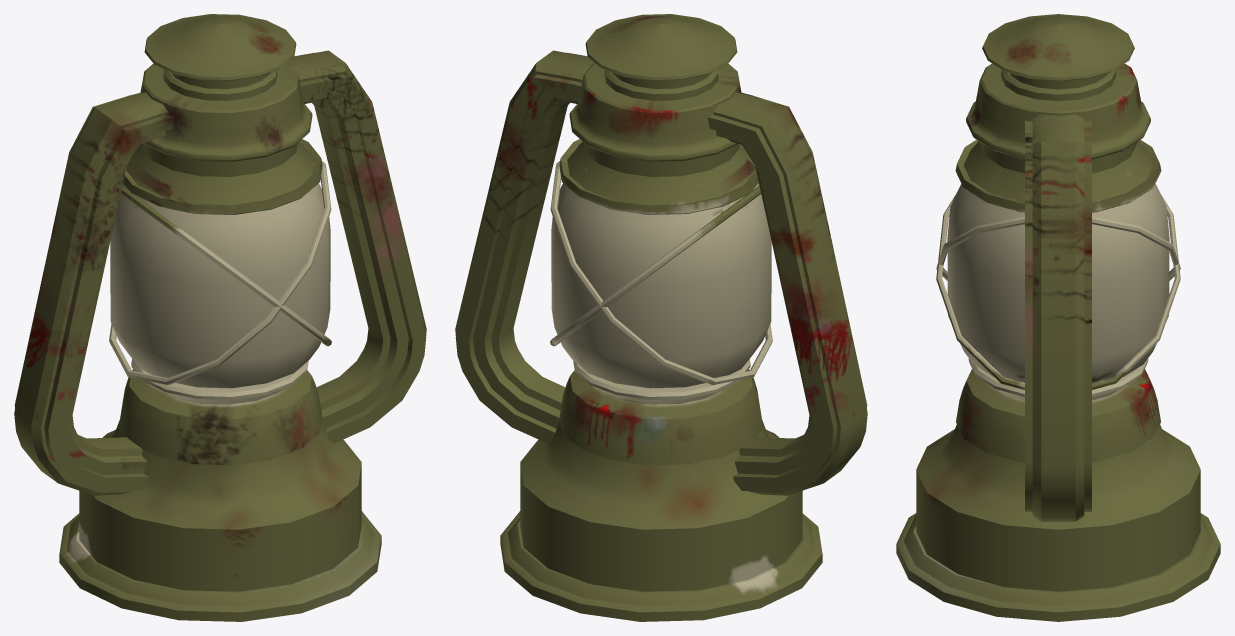
File: lampara_mano.fbx
3 views of the same model, side by side, from view 1: azimuth 30°, elevation 25°; view 2: azimuth 150°, elevation 25°; view 3: azimuth 270°, elevation 25° (orthographic).
Parts seen in each view (by area): view 1: Cylinder; view 2: Cylinder; view 3: Cylinder.
Part boxes in pixels (left/top/right/bottom): Cylinder: left=14, top=14, right=426, bottom=621; Cylinder: left=455, top=14, right=867, bottom=621; Cylinder: left=896, top=14, right=1220, bottom=621.
Size of the model in its own units: 24.59 by 31.59 by 17.49.
Materials: 1 (1 with a texture image).
